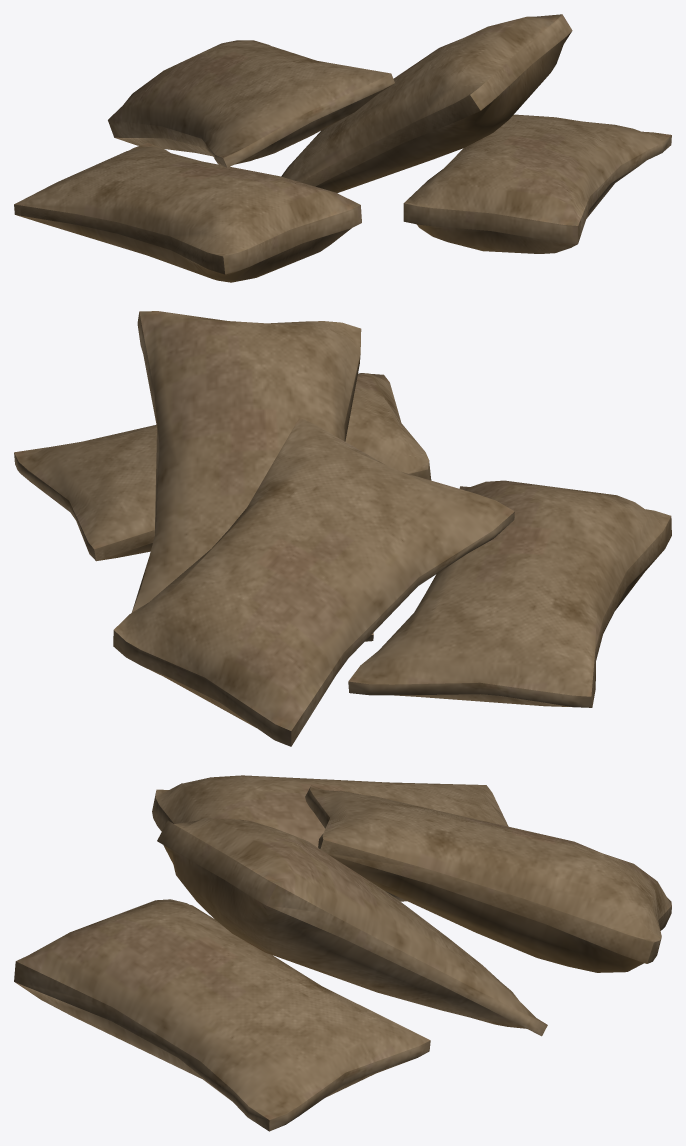
File: sandbags.glb
3 renders of one model, top to bottom at view 1: azimuth 30°, elevation 25°; view 2: azimuth 150°, elevation 25°; view 3: azimuth 270°, elevation 25°, orthographic. The views are drawn at different scales.
Visible parts, largest first — view 1: m; view 2: m; view 3: m.
Part boxes in pixels (x1,y1,x2,y2): m: (14, 14, 671, 282); m: (14, 311, 671, 746); m: (14, 775, 671, 1131).
Size of the model in its own units: 1.6 by 0.4874 by 1.34.
1 material, 1 textured.
